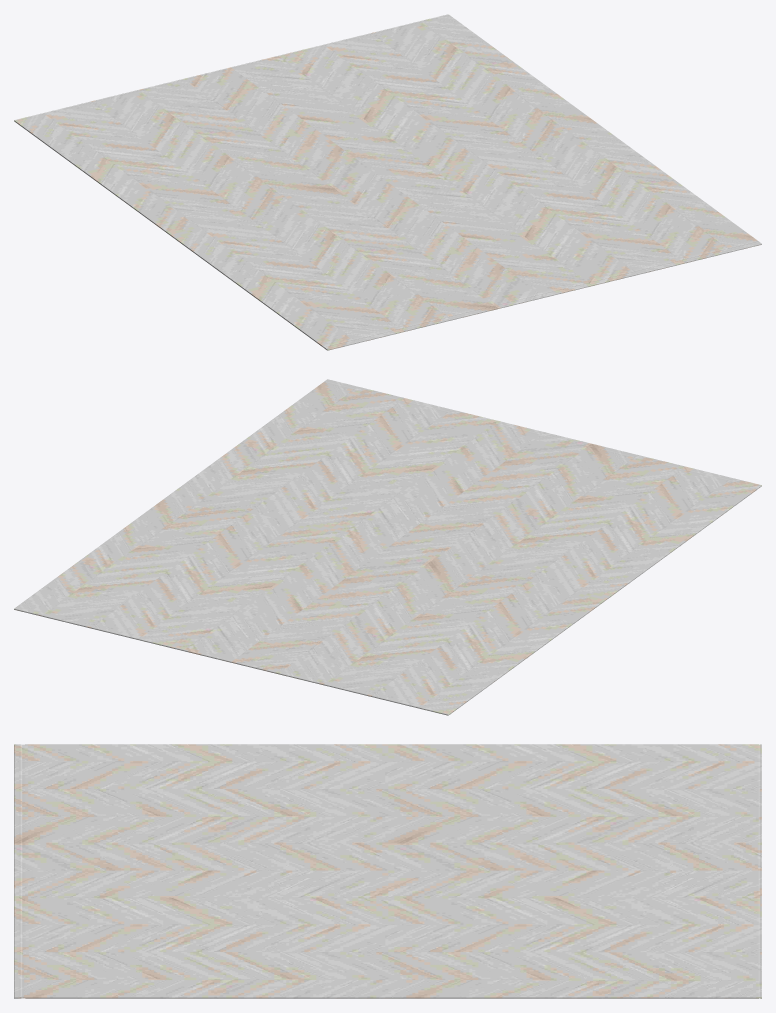
The model's file is Project Name.glb.
The picture shows the model from 3 angles, top to bottom: view 1: azimuth 30°, elevation 25°; view 2: azimuth 150°, elevation 25°; view 3: azimuth 270°, elevation 25°; orthographic projection. The views are drawn at different scales.
Parts seen in each view (by area): view 1: 51072_StrellaRug_Grey; view 2: 51072_StrellaRug_Grey; view 3: 51072_StrellaRug_Grey.
Boxes of the visible parts, <box> form: 51072_StrellaRug_Grey: <box>14,14,761,350</box>; 51072_StrellaRug_Grey: <box>14,379,761,715</box>; 51072_StrellaRug_Grey: <box>14,744,761,998</box>.
Bounding box in the file's own units: 2.44 × 0.00716 × 3.05.
Materials: 1 (1 with a texture image).
